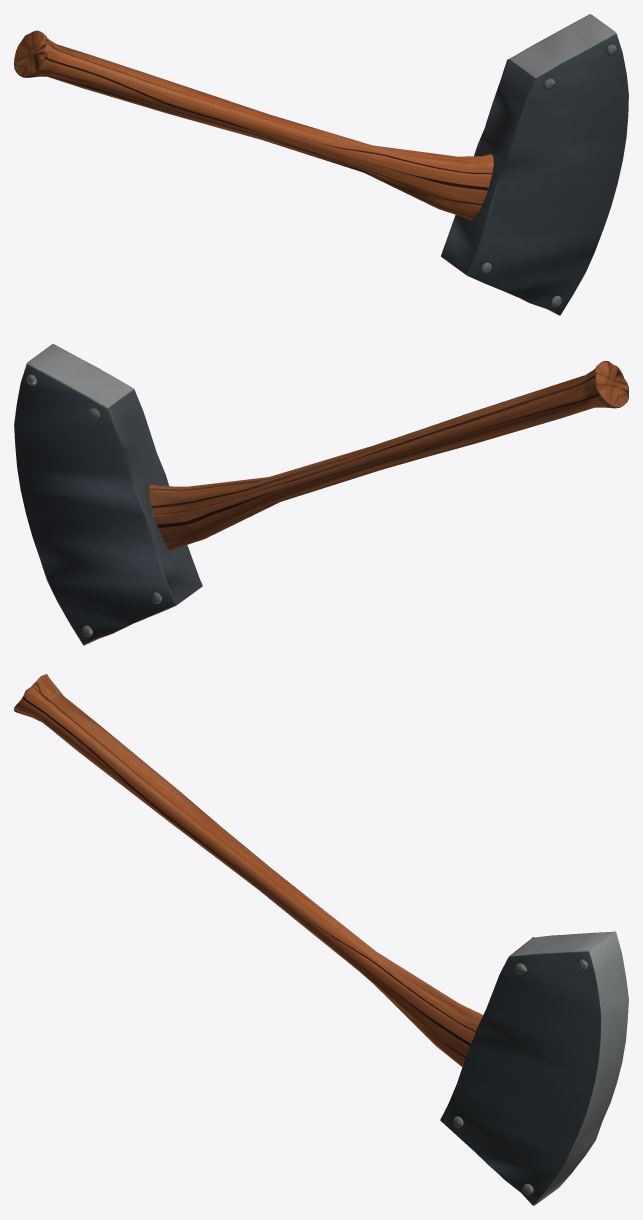
Rendered from splitting_maul.glb.
3 renders of one model, top to bottom at view 1: azimuth 30°, elevation 25°; view 2: azimuth 150°, elevation 25°; view 3: azimuth 330°, elevation 25°, orthographic.
Size of the model in its own units: 0.9546 by 0.6069 by 0.0854.
1 material, 1 textured.
